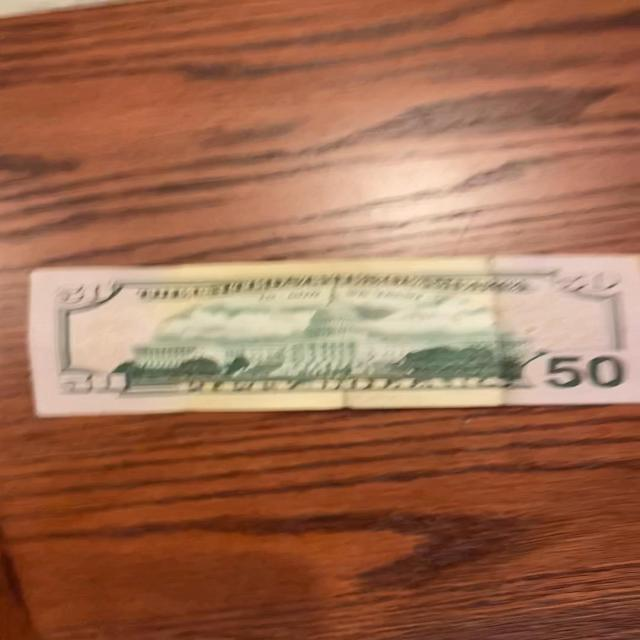50-Back: (26, 247, 640, 425)
